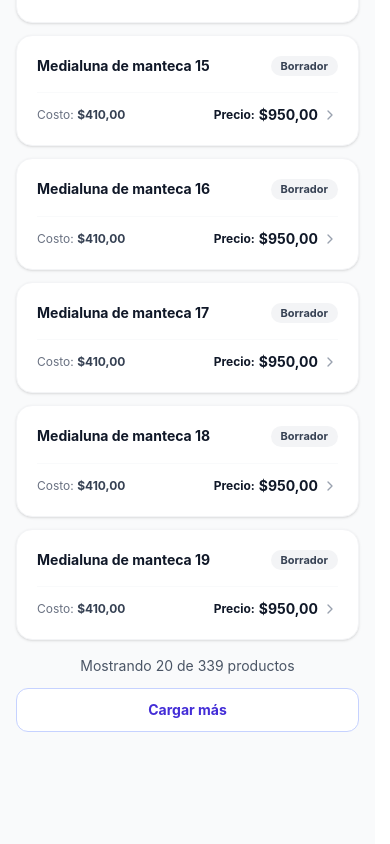
Test: ProductsPage - paginación y búsqueda en la API (#350) › en mobile, "Cargar más" suma la página siguiente
The image size is (390, 844).
(page scrolled)
Expected: the text "Mostrando 20 de 339 productos" is shown, [80,656,295,676]
Click the button "Cargar más".
click(188, 710)  # box [16,688,359,732]
(page scrolled)
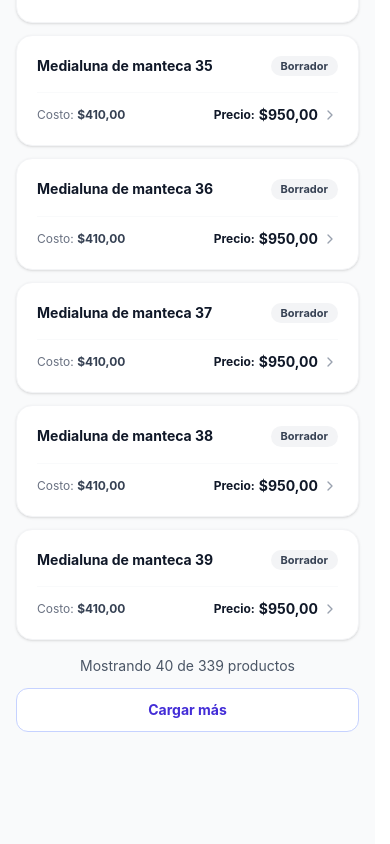
Expected: the text "Mostrando 40 de 339 productos" is shown, [80,656,295,676]
